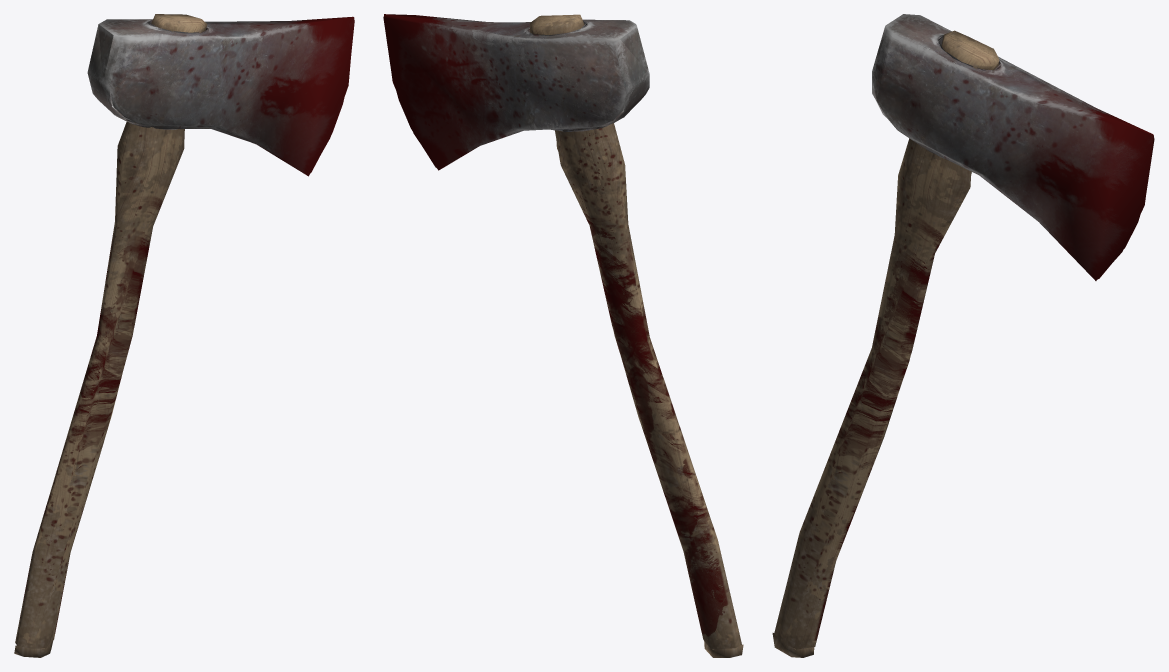
The model's file is bloody_axe.glb.
The picture shows the model from 3 angles, left to right: view 1: azimuth 30°, elevation 25°; view 2: azimuth 150°, elevation 25°; view 3: azimuth 330°, elevation 25°; orthographic projection. The views are drawn at different scales.
Parts seen in each view (by area): view 1: Object_2; view 2: Object_2; view 3: Object_2.
Part boxes in pixels (box(x1,y1,x2,y2)): Object_2: box(14, 14, 354, 657); Object_2: box(383, 14, 743, 657); Object_2: box(772, 14, 1154, 657).
Size of the model in its own units: 10.33 by 17.11 by 1.39.
1 material, 1 textured.
